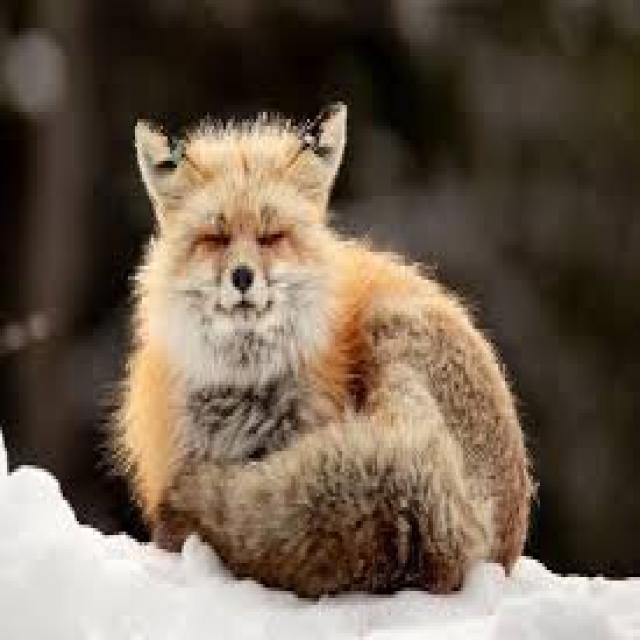fox: (105, 98, 538, 598)
